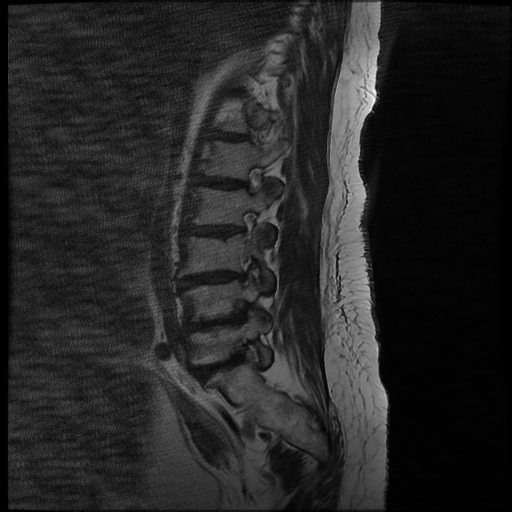RFS0: (235, 155, 268, 201)
RFS3: (225, 290, 259, 336)
